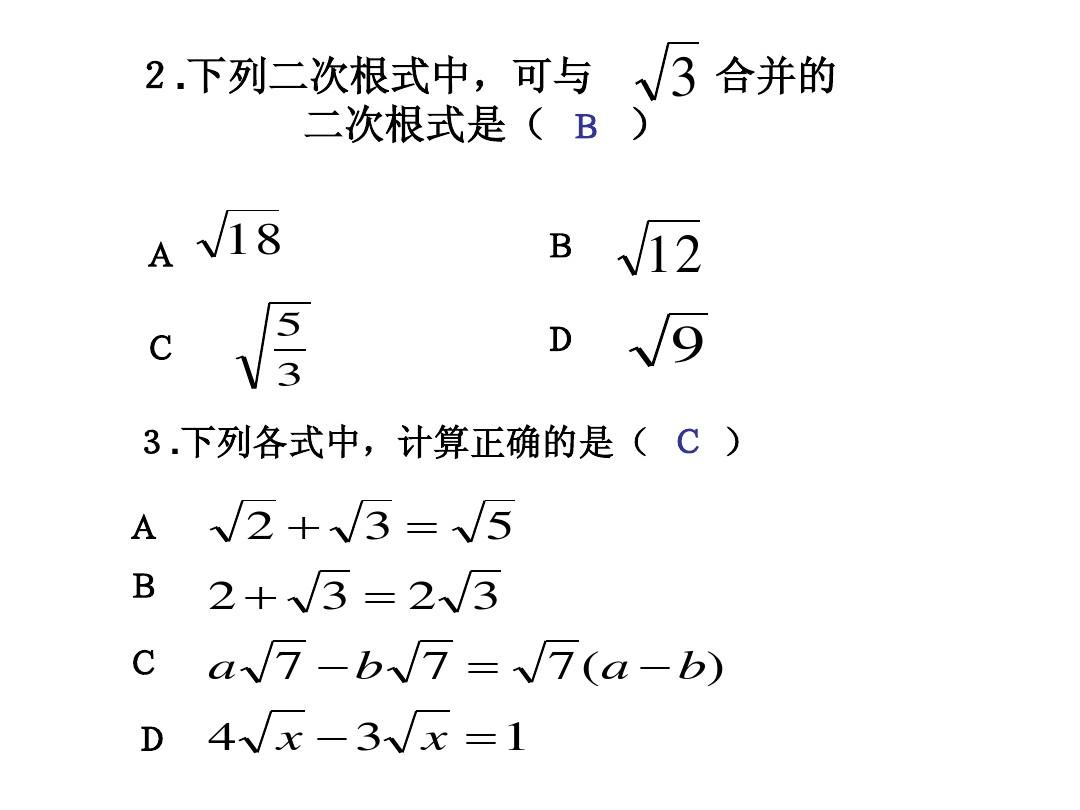sqrt: (189, 201, 292, 268), (240, 298, 309, 394), (630, 303, 718, 373), (612, 215, 706, 277), (214, 485, 280, 553), (639, 35, 704, 100), (241, 705, 315, 762), (241, 633, 314, 687), (393, 701, 457, 761), (333, 495, 396, 551), (441, 564, 504, 618), (510, 638, 574, 690), (455, 494, 516, 548), (386, 637, 452, 686), (289, 566, 353, 615)
